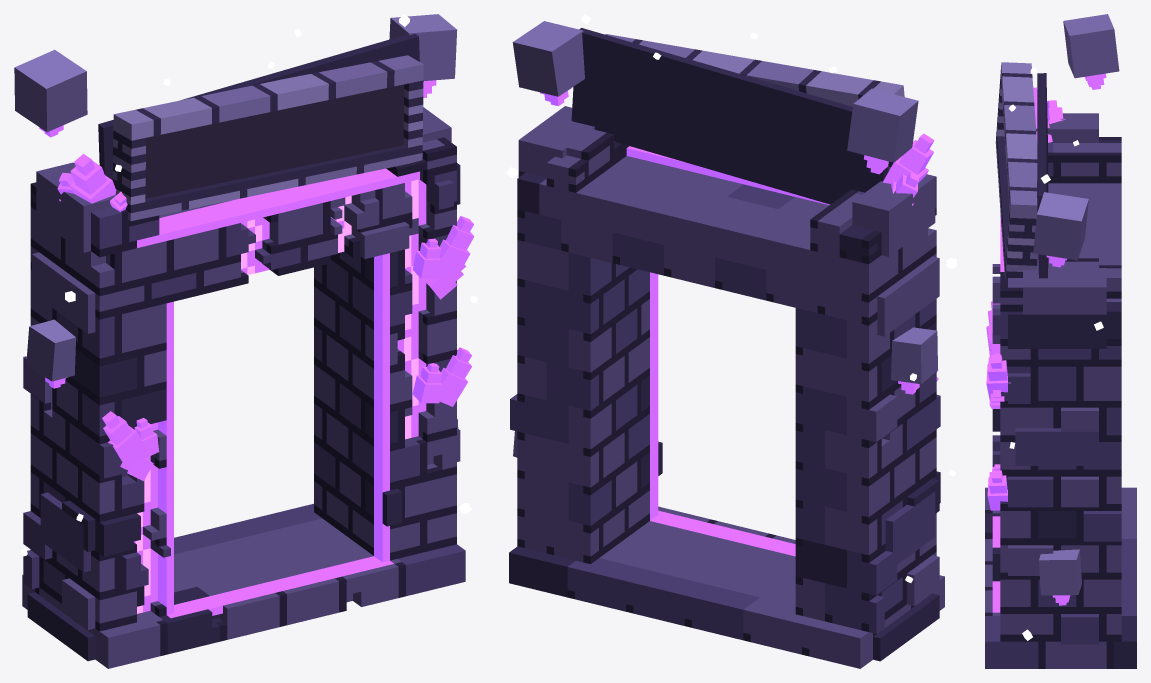
The model's file is Lobby_PortalArch_VoidRift.glb.
3 renders of one model, left to right at view 1: azimuth 30°, elevation 25°; view 2: azimuth 150°, elevation 25°; view 3: azimuth 270°, elevation 25°, orthographic. The views are drawn at different scales.
Visible parts, largest first — view 1: VoidRift_Void_Stone_Mid, VoidRift_Void_Seam, VoidRift_Void_Stone_Dark, VoidRift_Void_Stone_Deep, VoidRift_Glow_Rift, VoidRift_Sign_Board, VoidRift_Glow_Crystal, VoidRift_Float_Stone_Side, VoidRift_Sign_Frame, VoidRift_Sign_Frame_Light, VoidRift_Float_Stone_Top, VoidRift_Glow_CrackCore; view 2: VoidRift_Void_Stone_Mid, VoidRift_Void_Stone_Dark, VoidRift_Void_Stone_Deep, VoidRift_Void_Seam, VoidRift_Float_Stone_Side, VoidRift_Glow_Rift, VoidRift_Float_Stone_Top, VoidRift_Sign_Frame_Light, VoidRift_Glow_Crystal, VoidRift_Sign_Frame; view 3: VoidRift_Void_Stone_Mid, VoidRift_Void_Stone_Dark, VoidRift_Void_Seam, VoidRift_Void_Stone_Deep, VoidRift_Float_Stone_Side, VoidRift_Glow_Crystal, VoidRift_Sign_Frame, VoidRift_Sign_Frame_Light, VoidRift_Float_Stone_Top, VoidRift_Glow_Rift, VoidRift_Glow_Speck.
Part boxes in pixels (bbox=[...]): VoidRift_Void_Stone_Mid: bbox=[22, 107, 460, 668]; VoidRift_Void_Seam: bbox=[30, 137, 456, 655]; VoidRift_Void_Stone_Dark: bbox=[23, 170, 465, 596]; VoidRift_Void_Stone_Deep: bbox=[27, 34, 460, 661]; VoidRift_Glow_Rift: bbox=[134, 168, 426, 618]; VoidRift_Sign_Board: bbox=[145, 84, 404, 198]; VoidRift_Glow_Crystal: bbox=[39, 80, 474, 480]; VoidRift_Float_Stone_Side: bbox=[14, 18, 458, 428]; VoidRift_Sign_Frame: bbox=[112, 55, 423, 221]; VoidRift_Sign_Frame_Light: bbox=[113, 74, 423, 208]; VoidRift_Float_Stone_Top: bbox=[14, 14, 457, 419]; VoidRift_Glow_CrackCore: bbox=[135, 179, 418, 613]; VoidRift_Void_Stone_Mid: bbox=[517, 106, 944, 668]; VoidRift_Void_Stone_Dark: bbox=[510, 174, 940, 640]; VoidRift_Void_Stone_Deep: bbox=[509, 28, 940, 661]; VoidRift_Void_Seam: bbox=[517, 133, 936, 656]; VoidRift_Float_Stone_Side: bbox=[512, 31, 937, 457]; VoidRift_Glow_Rift: bbox=[626, 146, 829, 556]; VoidRift_Float_Stone_Top: bbox=[513, 21, 936, 344]; VoidRift_Sign_Frame_Light: bbox=[693, 50, 904, 170]; VoidRift_Glow_Crystal: bbox=[540, 88, 938, 394]; VoidRift_Sign_Frame: bbox=[605, 34, 813, 90]; VoidRift_Void_Stone_Mid: bbox=[985, 113, 1136, 668]; VoidRift_Void_Stone_Dark: bbox=[985, 143, 1136, 668]; VoidRift_Void_Seam: bbox=[985, 137, 1121, 668]; VoidRift_Void_Stone_Deep: bbox=[985, 73, 1136, 668]; VoidRift_Float_Stone_Side: bbox=[1033, 22, 1119, 595]; VoidRift_Glow_Crystal: bbox=[986, 73, 1106, 605]; VoidRift_Sign_Frame: bbox=[995, 84, 1037, 277]; VoidRift_Sign_Frame_Light: bbox=[996, 62, 1037, 258]; VoidRift_Float_Stone_Top: bbox=[1037, 14, 1113, 560]; VoidRift_Glow_Rift: bbox=[992, 212, 1004, 612]; VoidRift_Glow_Speck: bbox=[1008, 67, 1103, 640].
Bounding box in the file's own units: 2.79 × 3.6 × 1.
